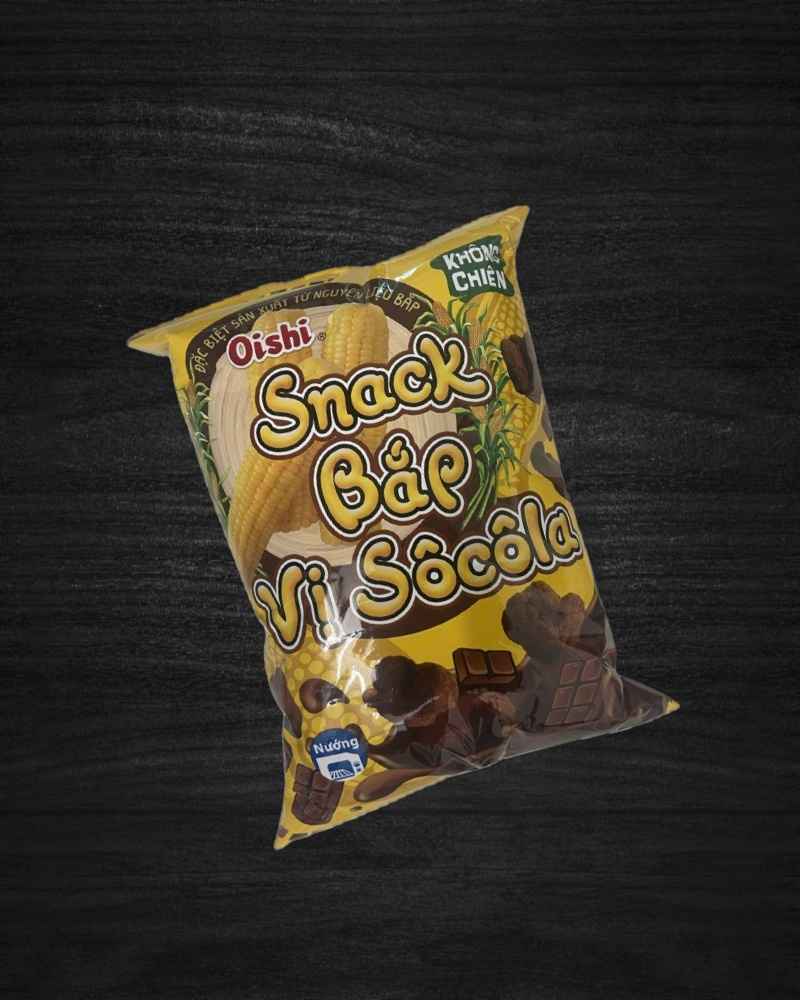Snack socola: (121, 202, 688, 842)
